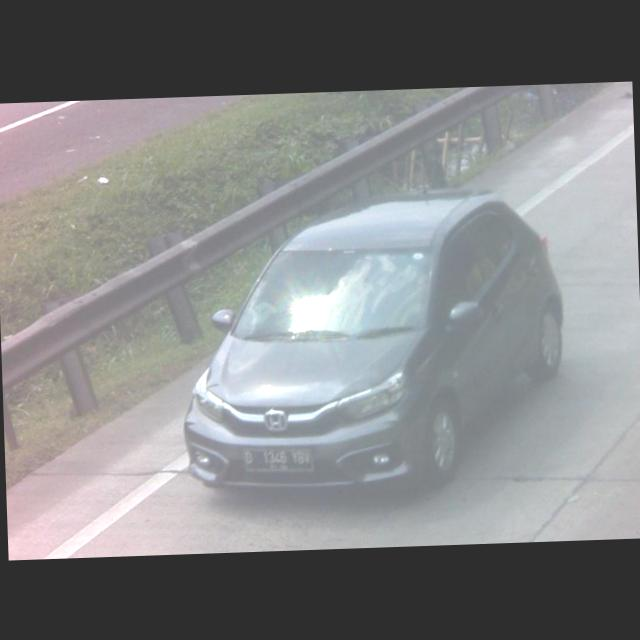plate: (243, 443, 315, 472)
